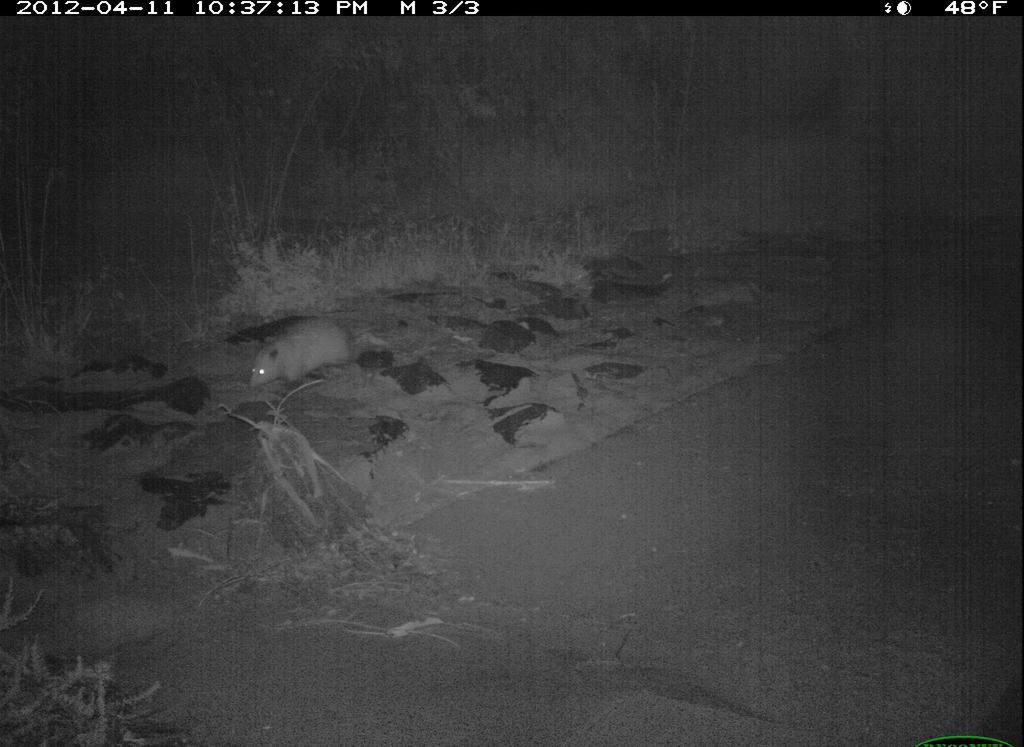opossum: (237, 314, 424, 395)
